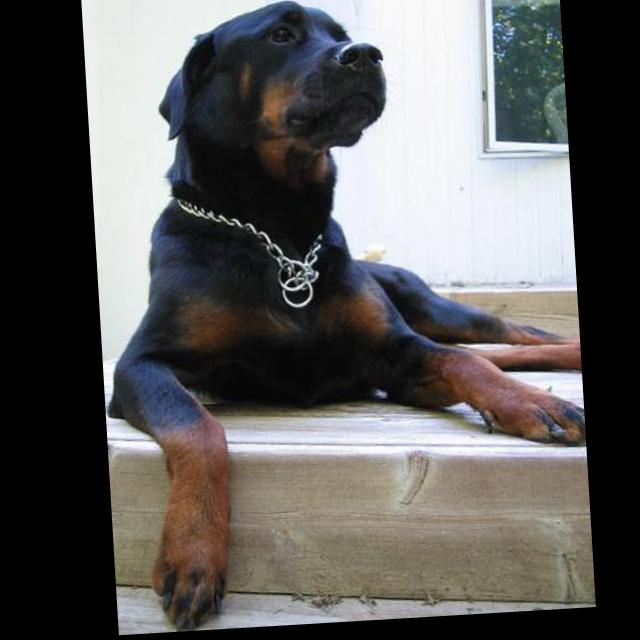rottweiler: (85, 1, 590, 637)
